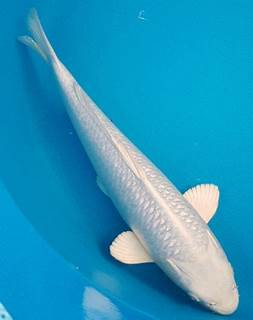white: (14, 6, 241, 315)
